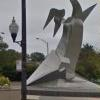Statue: (34, 4, 92, 80)
